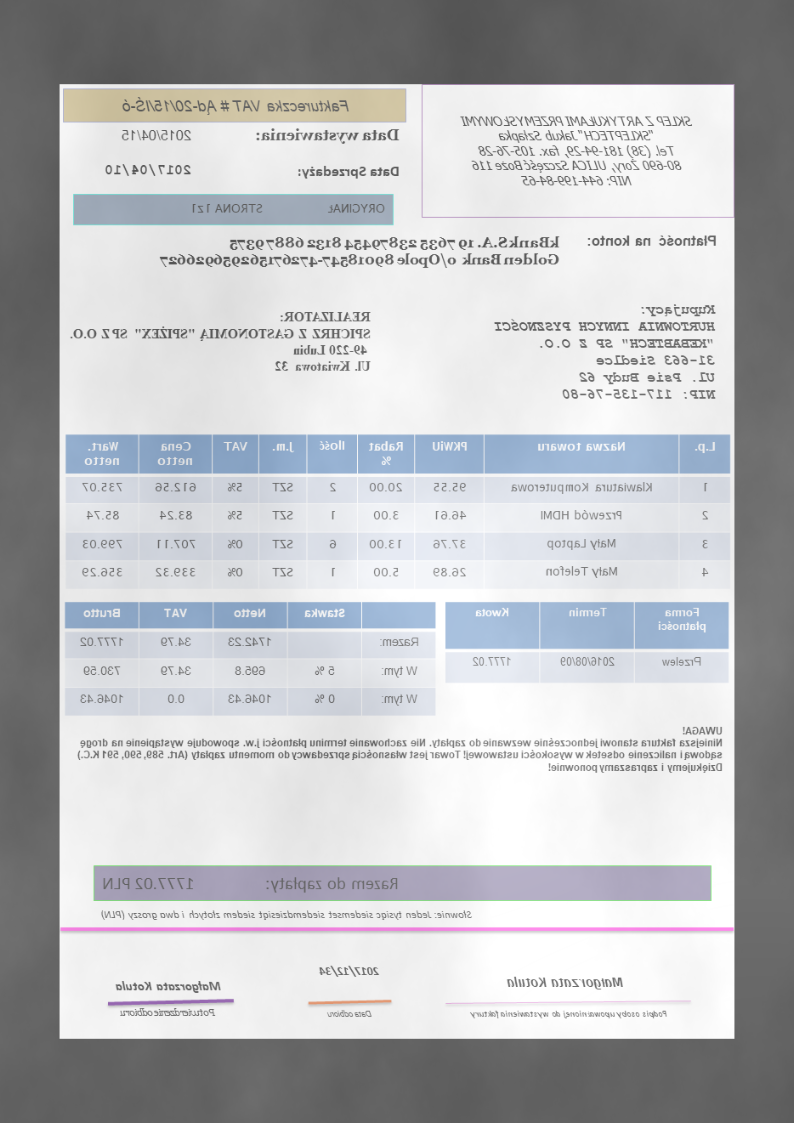Table: (64, 431, 733, 592), (64, 599, 440, 718), (444, 600, 730, 683)
TextBox: (74, 721, 726, 776), (491, 299, 721, 402), (66, 307, 375, 375), (457, 107, 696, 192), (156, 231, 564, 270), (101, 870, 403, 893), (95, 906, 475, 922), (116, 94, 354, 115), (189, 198, 388, 219), (252, 122, 402, 145), (467, 1006, 673, 1021), (583, 231, 723, 252), (503, 969, 626, 992), (292, 161, 405, 182), (111, 976, 227, 995), (101, 158, 195, 179), (120, 122, 196, 146), (116, 1006, 221, 1020), (317, 962, 383, 979), (324, 1006, 376, 1023)
